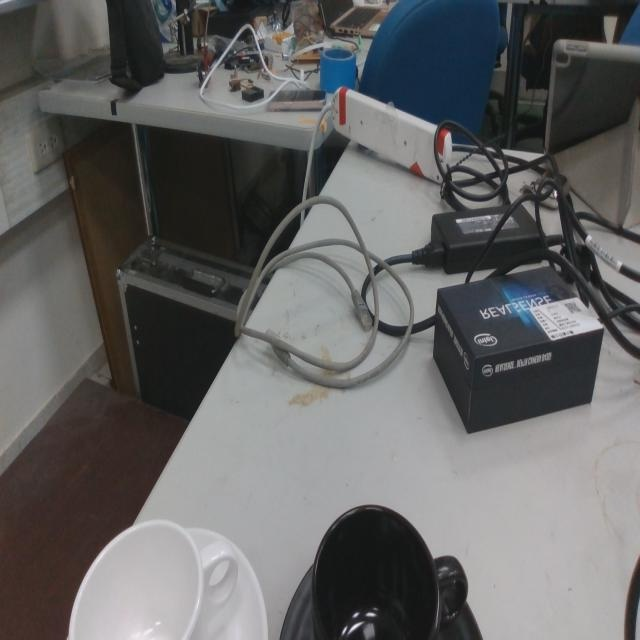black: (274, 499, 486, 640)
white: (64, 513, 272, 640)
